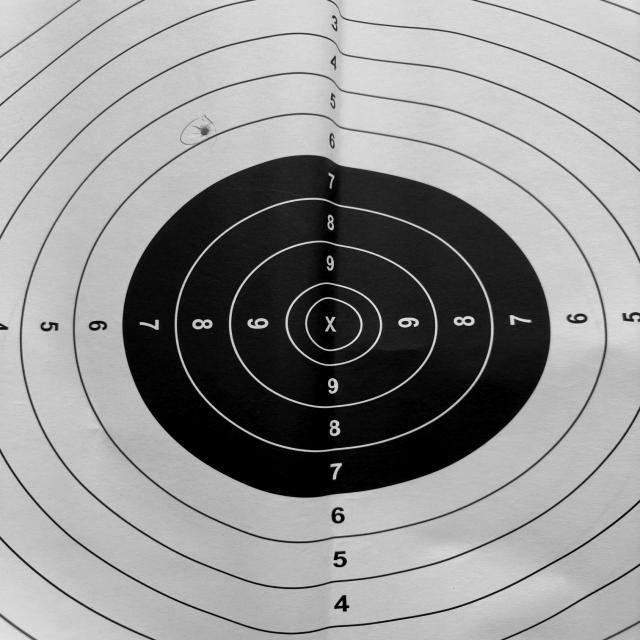bullet: (200, 124, 212, 136)
